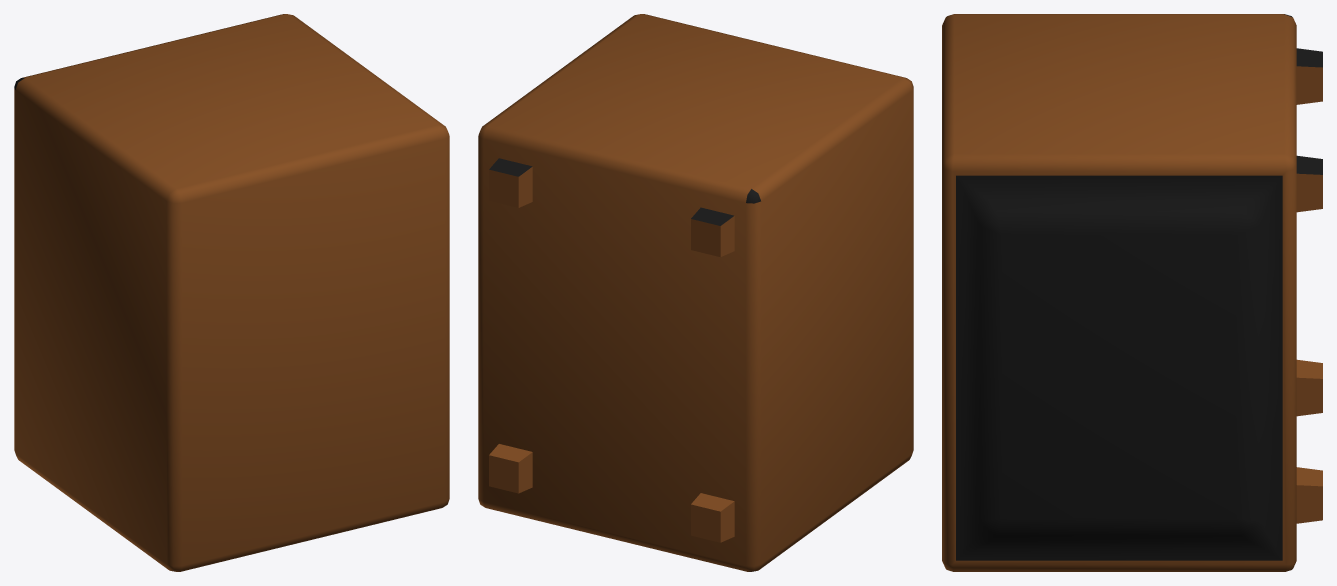
File: VisitorTV.fbx
The picture shows the model from 3 angles, left to right: view 1: azimuth 30°, elevation 25°; view 2: azimuth 150°, elevation 25°; view 3: azimuth 270°, elevation 25°; orthographic projection. The views are drawn at different scales.
Parts seen in each view (by area): view 1: TV; view 2: TV; view 3: TV.
Boxes of the visible parts, box(x1,y1,x2,y2) form: TV: box(14, 14, 449, 571); TV: box(478, 14, 913, 571); TV: box(942, 14, 1322, 571).
Bounding box in the file's own units: 211 × 260 × 215.
